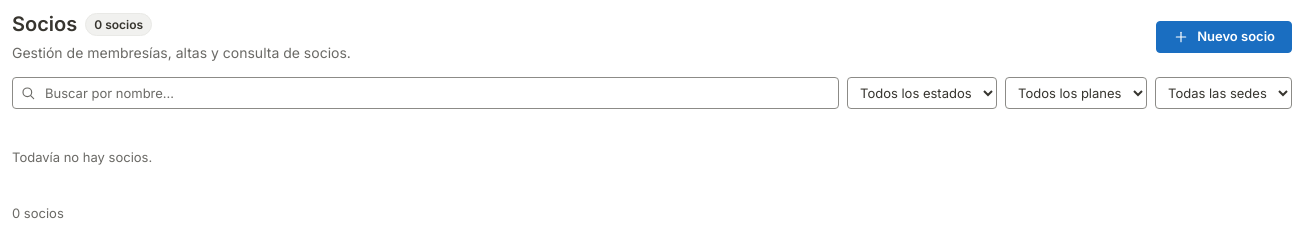
Test: GestionSociosPage › sin resultados con filtros: solo el mensaje; "Limpiar" de los filtros restaura el listado
Select "Activa" in the dropdown named "estado" at [922, 93], box [847,77,997,109]
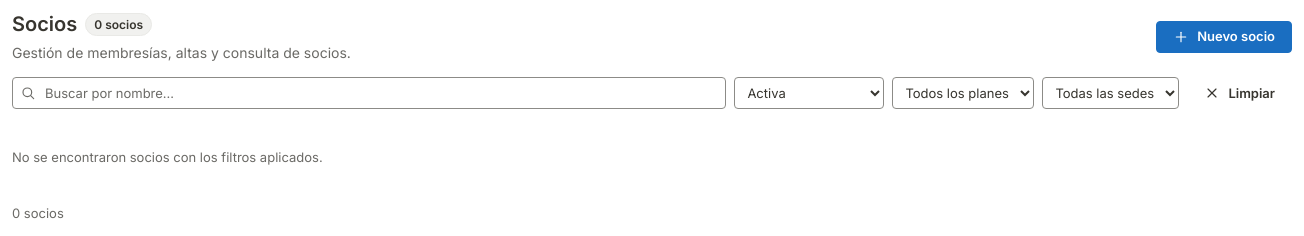
Expected: the text with class "socios__vacio" reads "No se encontraron socios con los filtros aplicados.", [12,149,323,165]
Expected: the button "Limpiar" is shown
Click the button "Limpiar".
click(1240, 93)  # box [1187,77,1292,109]
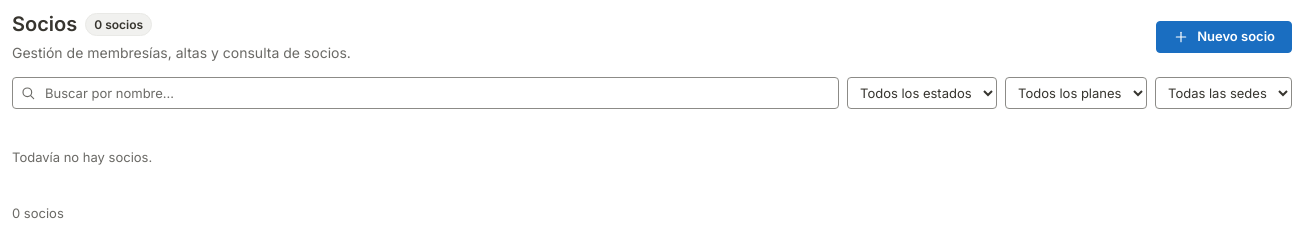
Expected: the text with class "socios__vacio" reads "Todavía no hay socios.", [12,149,152,165]
